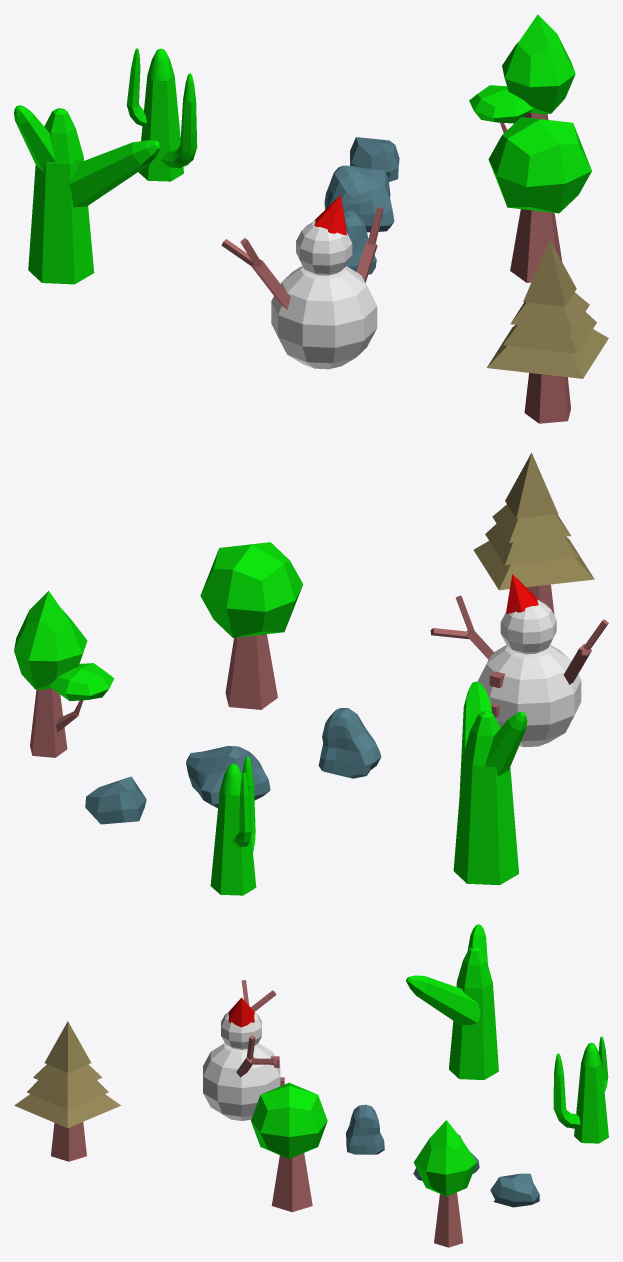
The model's file is WOC environment.fbx.
3 renders of one model, top to bottom at view 1: azimuth 30°, elevation 25°; view 2: azimuth 150°, elevation 25°; view 3: azimuth 270°, elevation 25°, orthographic. The views are drawn at different scales.
Parts seen in each view (by area): view 1: snowman, tree4, tree3, tree2, tree1, tree5, rock3, rock2, rock1; view 2: snowman, tree2, tree4, tree3, tree1, tree5, rock1, rock3, rock2; view 3: tree4, tree3, snowman, tree2, tree1, tree5, rock1, rock2.
Boxes of the visible parts, x1,y1,x2,y2 form: snowman: [221, 195, 383, 369]; tree4: [14, 105, 160, 284]; tree3: [487, 240, 608, 423]; tree2: [488, 117, 591, 282]; tree1: [469, 14, 575, 133]; tree5: [126, 48, 197, 181]; rock3: [324, 165, 394, 232]; rock2: [350, 137, 399, 181]; rock1: [343, 211, 376, 274]; snowman: [430, 574, 608, 747]; tree2: [200, 542, 303, 709]; tree4: [453, 681, 527, 885]; tree3: [473, 452, 594, 614]; tree1: [14, 590, 114, 757]; tree5: [210, 756, 256, 895]; rock1: [318, 708, 381, 778]; rock3: [186, 746, 270, 808]; rock2: [85, 776, 146, 824]; tree4: [406, 924, 498, 1079]; tree3: [14, 1021, 120, 1161]; snowman: [203, 980, 284, 1120]; tree2: [251, 1082, 327, 1212]; tree1: [413, 1120, 476, 1247]; tree5: [553, 1036, 608, 1143]; rock1: [346, 1104, 384, 1154]; rock2: [490, 1173, 539, 1207].
Bounding box in the file's own units: 433 × 140 × 549.
